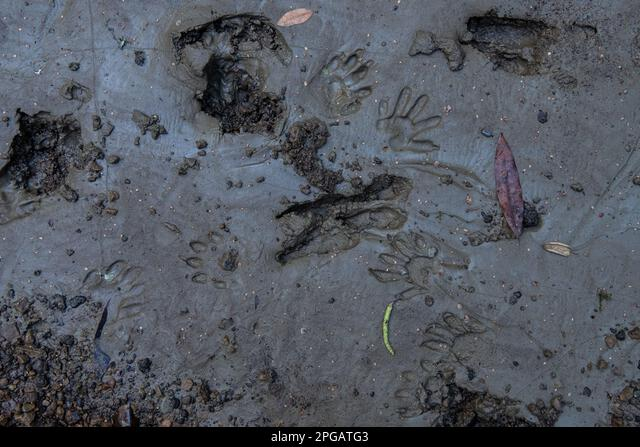raccoon: (358, 222, 478, 302), (170, 224, 254, 291)
